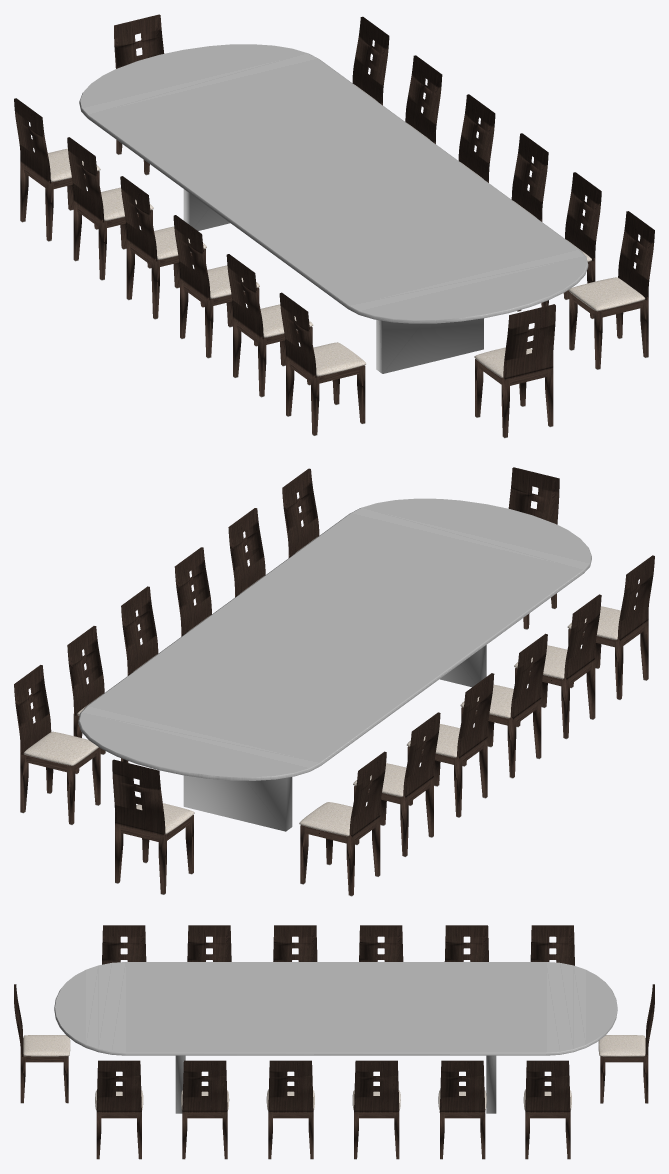
Rendered from meeting_room.glb.
The picture shows the model from 3 angles, top to bottom: view 1: azimuth 30°, elevation 25°; view 2: azimuth 150°, elevation 25°; view 3: azimuth 270°, elevation 25°; orthographic projection. The views are drawn at different scales.
Parts seen in each view (by area): view 1: office_table01, Box05, Box05_12, Box05_2, Box05_6, Box05_5, Box05_7, Box05_4, Box05_3, Box05_11, Box05_10, Box05_13 (+10 smaller); view 2: office_table01, Box05_1, Box05_9, Box05_7, Box05_4, Box05_3, Box05_2, Box05_5, Box05_6, Box05_13, Box05, Box05_11 (+10 smaller); view 3: office_table01, Box05_11, Box05_10, Box05_9, Box05_12, Box05_8, Box05_13, Box05_7, Box05_2, Box05_3, Box05_5, Box05_6 (+5 smaller).
Boxes of the visible parts, x1,y1,x2,y2 form: office_table01: [79, 44, 588, 373]; Box05: [475, 304, 555, 437]; Box05_12: [569, 211, 654, 369]; Box05_2: [279, 292, 365, 435]; Box05_6: [67, 137, 152, 279]; Box05_5: [120, 176, 205, 318]; Box05_7: [14, 98, 99, 240]; Box05_4: [226, 254, 312, 396]; Box05_3: [173, 215, 259, 357]; Box05_11: [517, 172, 601, 318]; Box05_10: [511, 133, 548, 221]; Box05_13: [405, 55, 442, 143]; office_table01: [78, 498, 591, 831]; Box05_1: [112, 759, 193, 894]; Box05_9: [14, 665, 100, 824]; Box05_7: [300, 751, 386, 895]; Box05_4: [515, 594, 601, 738]; Box05_3: [461, 633, 547, 777]; Box05_2: [568, 555, 654, 699]; Box05_5: [407, 673, 494, 817]; Box05_6: [354, 712, 440, 856]; Box05_13: [67, 626, 128, 773]; Box05: [508, 467, 559, 628]; Box05_11: [228, 508, 265, 597]; office_table01: [54, 962, 617, 1113]; Box05_11: [182, 1060, 227, 1158]; Box05_10: [268, 1060, 313, 1158]; Box05_9: [525, 1060, 570, 1158]; Box05_12: [96, 1060, 141, 1158]; Box05_8: [354, 1060, 399, 1158]; Box05_13: [439, 1060, 485, 1158]; Box05_7: [530, 925, 574, 965]; Box05_2: [102, 925, 146, 964]; Box05_3: [273, 925, 317, 961]; Box05_5: [359, 925, 403, 961]; Box05_6: [444, 925, 488, 961].
Size of the model in its own units: 2.63 by 0.9082 by 5.23.
4 materials, 3 textured.
